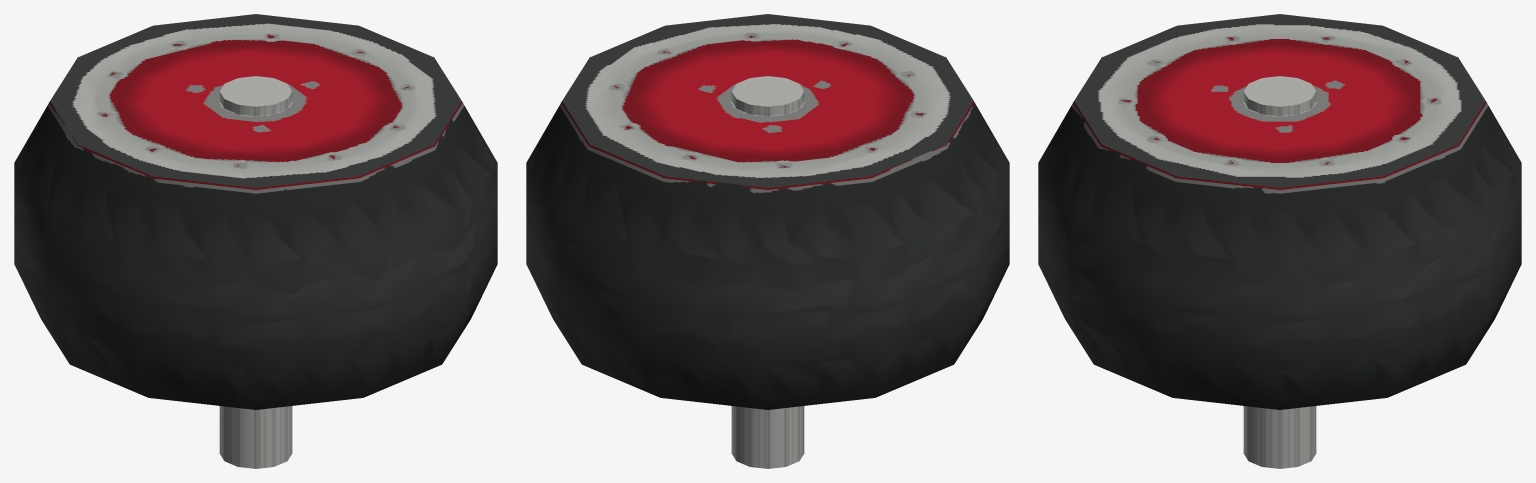
The model's file is wheel.dae.
3 renders of one model, left to right at view 1: azimuth 30°, elevation 25°; view 2: azimuth 150°, elevation 25°; view 3: azimuth 270°, elevation 25°, orthographic.
Visible parts, largest first — view 1: wheel; view 2: wheel; view 3: wheel.
Boxes of the visible parts, x1,y1,x2,y2 form: wheel: (14,14,497,468); wheel: (526,14,1009,468); wheel: (1038,14,1521,468).
Size of the model in its own units: 0.1596 by 0.1596 by 0.132.
3 materials, 3 textured.
